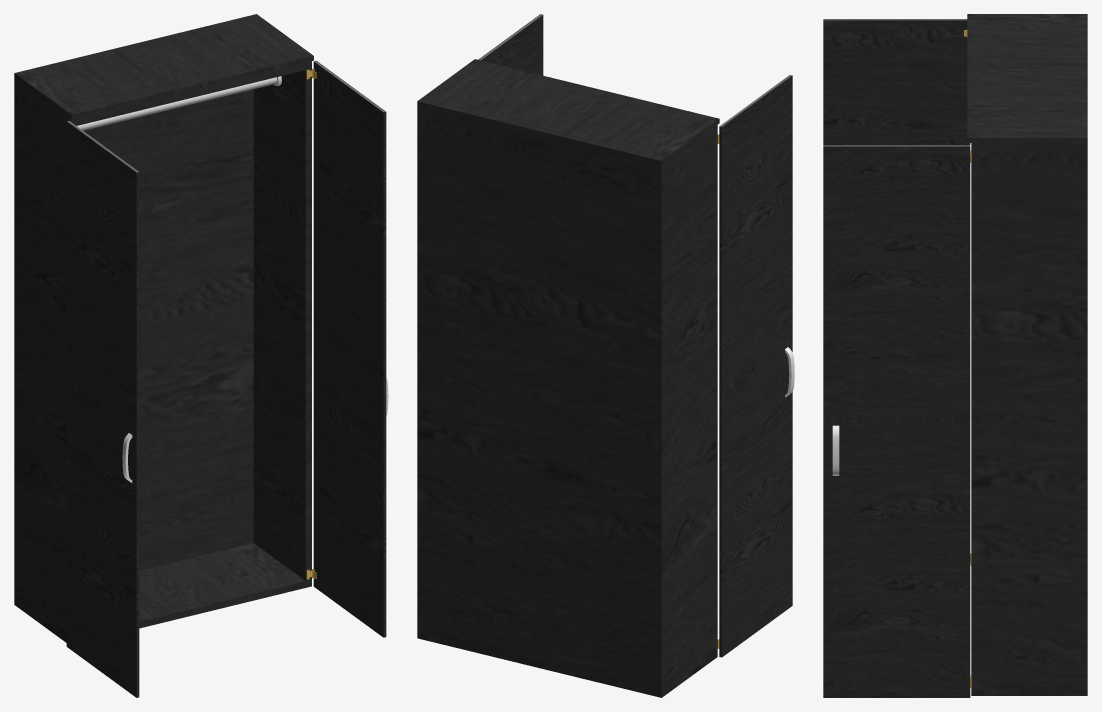
Rendered from Closet50.fbx.
3 views of the same model, side by side, from view 1: azimuth 30°, elevation 25°; view 2: azimuth 150°, elevation 25°; view 3: azimuth 270°, elevation 25° (orthographic). The views are drawn at different scales.
Visible parts, largest first — view 1: Closet50, Closet50DoorR, Closet50DoorL; view 2: Closet50, Closet50DoorL, Closet50DoorR; view 3: Closet50DoorR, Closet50, Closet50DoorL.
Boxes of the visible parts, x1,y1,x2,y2 form: Closet50: [14, 14, 313, 642]; Closet50DoorR: [312, 60, 388, 637]; Closet50DoorL: [66, 121, 139, 697]; Closet50: [417, 59, 719, 697]; Closet50DoorL: [717, 75, 794, 657]; Closet50DoorR: [478, 14, 543, 75]; Closet50DoorR: [823, 145, 971, 697]; Closet50: [967, 14, 1087, 695]; Closet50DoorL: [823, 19, 971, 562].
Size of the model in its own units: 122 by 235 by 101.
